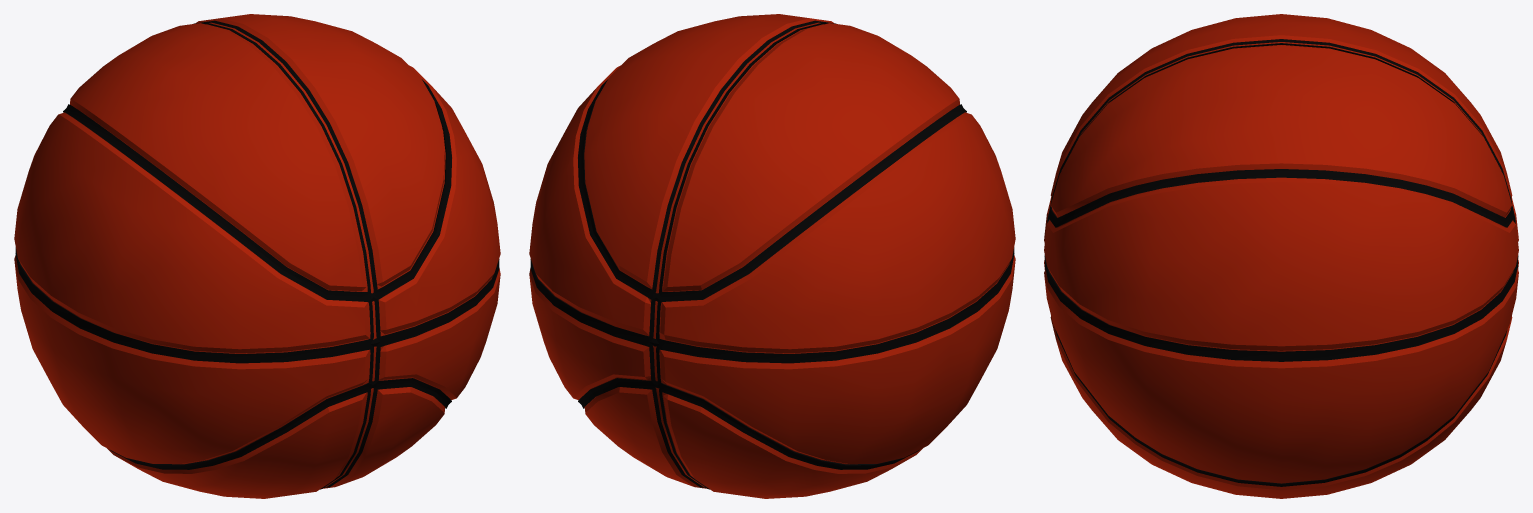
The model's file is Basketball model.fbx.
3 views of the same model, side by side, from view 1: azimuth 30°, elevation 25°; view 2: azimuth 150°, elevation 25°; view 3: azimuth 270°, elevation 25° (orthographic).
Parts seen in each view (by area): view 1: cgaxis_models_88_09_01, cgaxis_models_88_09_02; view 2: cgaxis_models_88_09_01, cgaxis_models_88_09_02; view 3: cgaxis_models_88_09_01, cgaxis_models_88_09_02.
Part boxes in pixels (left/top/right/bottom): cgaxis_models_88_09_01: left=14, top=14, right=500, bottom=498; cgaxis_models_88_09_02: left=15, top=20, right=499, bottom=489; cgaxis_models_88_09_01: left=529, top=14, right=1015, bottom=498; cgaxis_models_88_09_02: left=530, top=20, right=1014, bottom=489; cgaxis_models_88_09_01: left=1044, top=14, right=1518, bottom=498; cgaxis_models_88_09_02: left=1044, top=39, right=1518, bottom=486.
Size of the model in its own units: 22.7 by 22.7 by 22.6.
